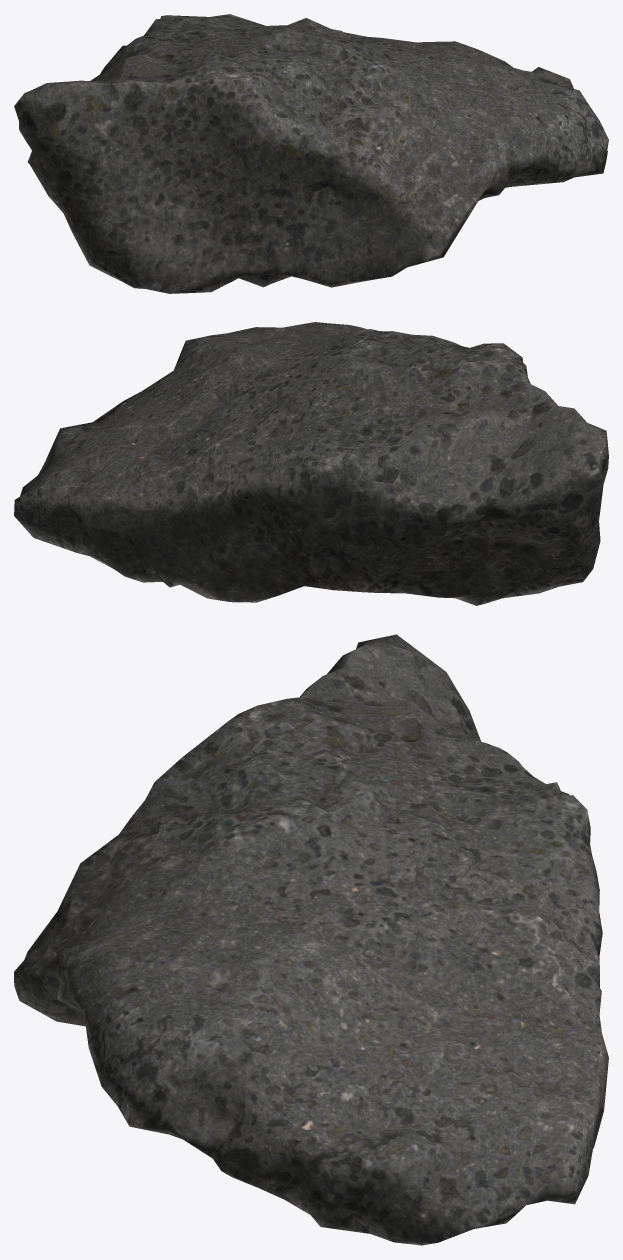
Rendered from SM_yieveel_tier_2.gltf.
The picture shows the model from 3 angles, top to bottom: view 1: azimuth 30°, elevation 25°; view 2: azimuth 150°, elevation 25°; view 3: azimuth 270°, elevation 25°; orthographic projection. The views are drawn at different scales.
Parts seen in each view (by area): view 1: yieveel_LOD2_TIER2_000; view 2: yieveel_LOD2_TIER2_000; view 3: yieveel_LOD2_TIER2_000.
Boxes of the visible parts, x1,y1,x2,y2 form: yieveel_LOD2_TIER2_000: (14,14,608,293); yieveel_LOD2_TIER2_000: (14,322,608,605); yieveel_LOD2_TIER2_000: (14,634,608,1245).
Size of the model in its own units: 0.0997 by 0.037 by 0.0678.
Materials: 1 (1 with a texture image).
